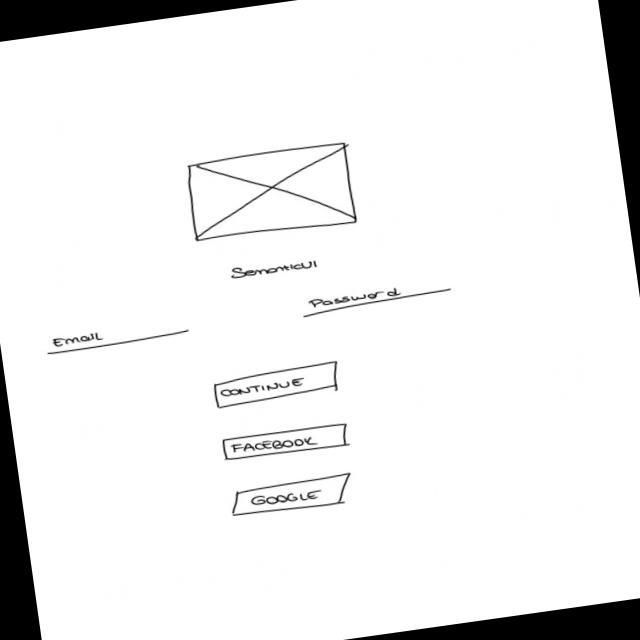button: (212, 360, 345, 412), (227, 472, 359, 522), (220, 421, 351, 465)
image: (184, 140, 362, 249)
input: (300, 277, 457, 321), (45, 317, 193, 358)
label: (230, 256, 323, 283)
